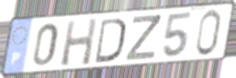0: (195, 8, 223, 58), (31, 21, 60, 69)
5: (161, 10, 194, 60)
D: (94, 16, 127, 65)
H: (59, 17, 99, 68)
Z: (124, 14, 163, 62)
